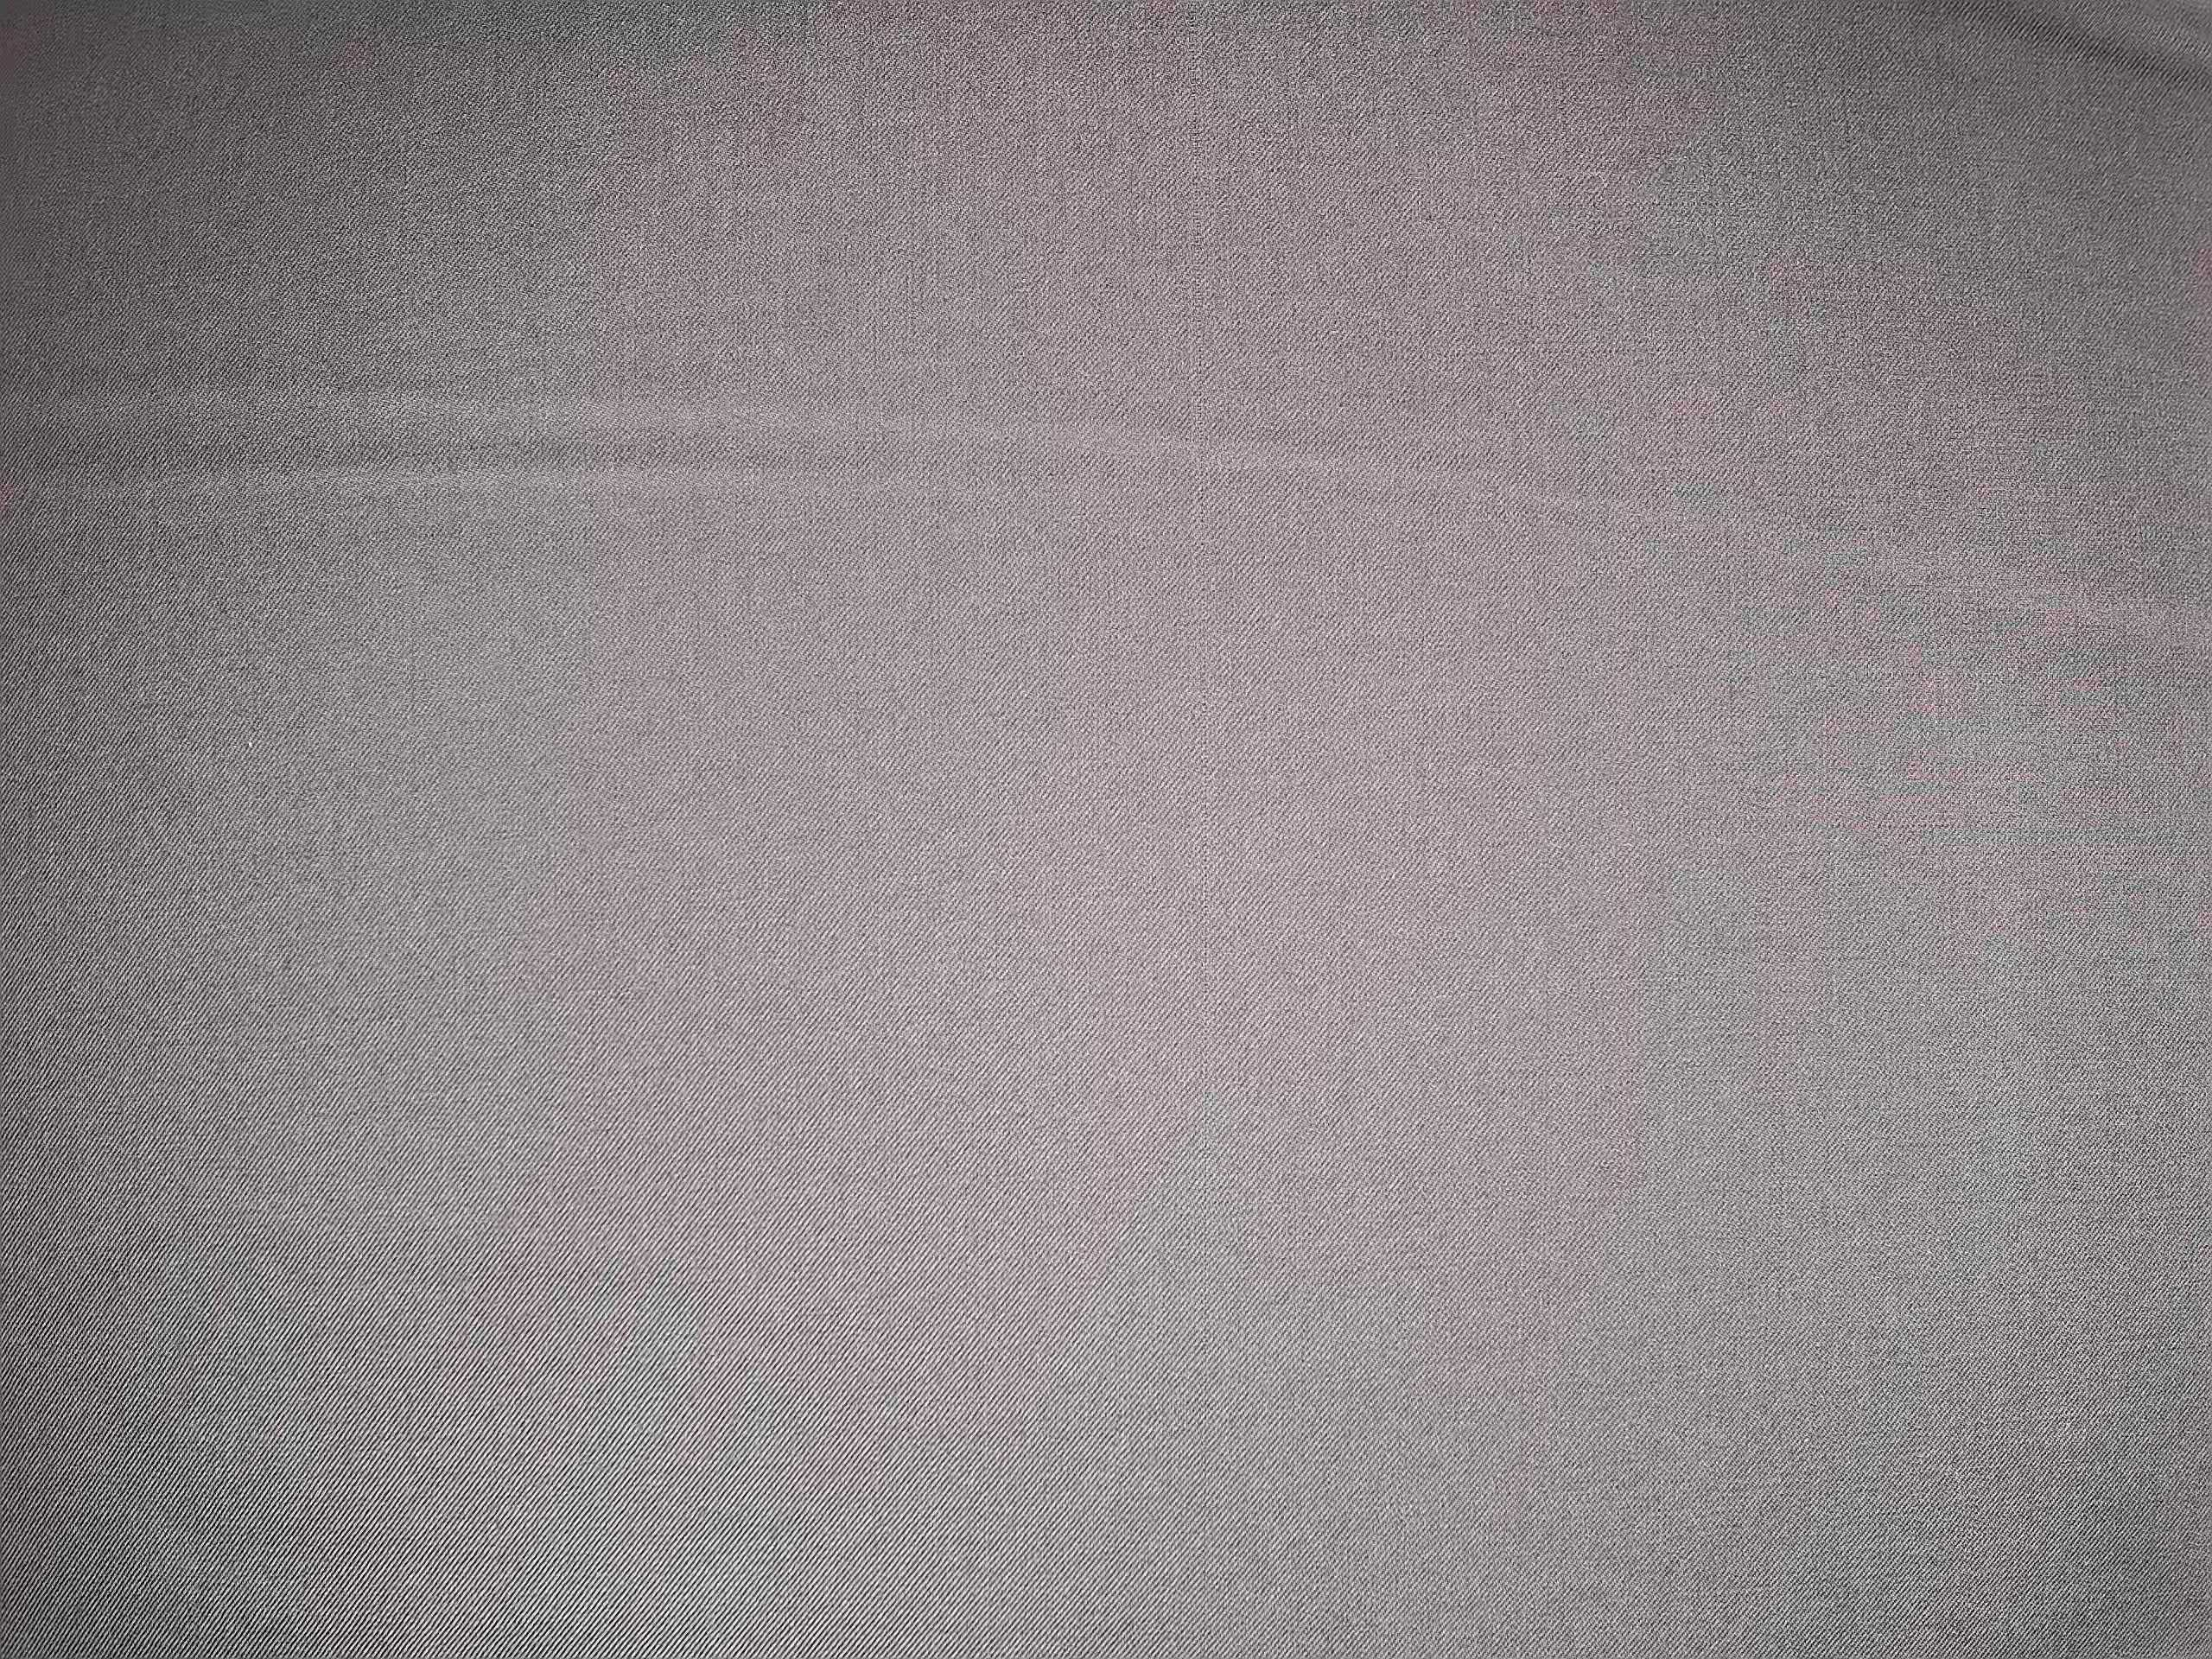lacking-warp: (1177, 2, 1226, 802)
